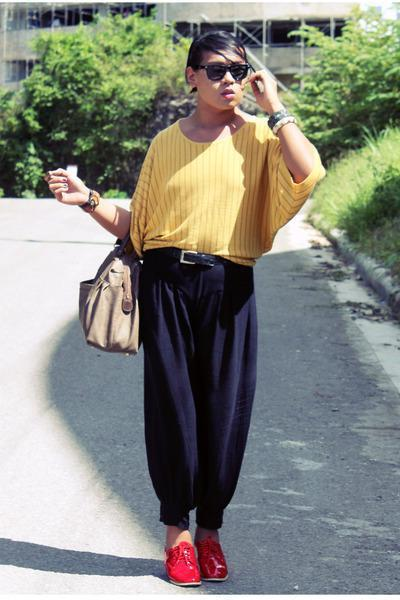sweater: (125, 114, 323, 263)
trousers: (129, 251, 261, 534)
